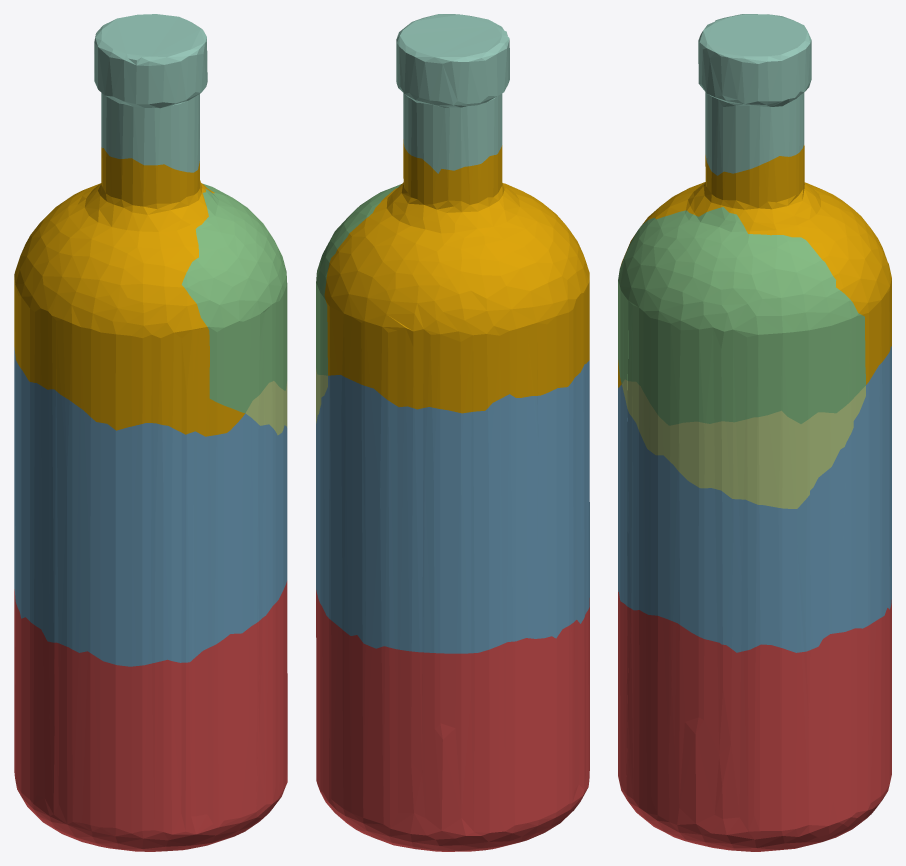
The model's file is fractured_36_6pcs.glb.
3 renders of one model, left to right at view 1: azimuth 30°, elevation 25°; view 2: azimuth 150°, elevation 25°; view 3: azimuth 270°, elevation 25°, orthographic.
Visible parts, largest first — view 1: piece_2.obj, piece_1.obj, piece_0.obj, piece_3.obj, piece_4.obj, piece_5.obj; view 2: piece_2.obj, piece_1.obj, piece_0.obj, piece_4.obj, piece_3.obj; view 3: piece_1.obj, piece_2.obj, piece_3.obj, piece_0.obj, piece_4.obj, piece_5.obj.
Boxes of the visible parts, x1=… form: piece_2.obj: x1=14, y1=347, x2=287, y2=666; piece_1.obj: x1=14, y1=581, x2=287, y2=851; piece_0.obj: x1=14, y1=147, x2=244, y2=436; piece_3.obj: x1=181, y1=183, x2=287, y2=413; piece_4.obj: x1=94, y1=14, x2=207, y2=172; piece_5.obj: x1=245, y1=381, x2=287, y2=435; piece_2.obj: x1=316, y1=360, x2=589, y2=653; piece_1.obj: x1=316, y1=590, x2=589, y2=851; piece_0.obj: x1=324, y1=139, x2=589, y2=413; piece_4.obj: x1=396, y1=14, x2=509, y2=173; piece_3.obj: x1=316, y1=184, x2=401, y2=375; piece_1.obj: x1=618, y1=592, x2=891, y2=851; piece_2.obj: x1=618, y1=346, x2=891, y2=652; piece_3.obj: x1=618, y1=207, x2=865, y2=425; piece_0.obj: x1=618, y1=145, x2=891, y2=387; piece_4.obj: x1=698, y1=14, x2=811, y2=175; piece_5.obj: x1=622, y1=379, x2=865, y2=508.
Size of the model in its own units: 0.3203 by 1 by 0.3202.
